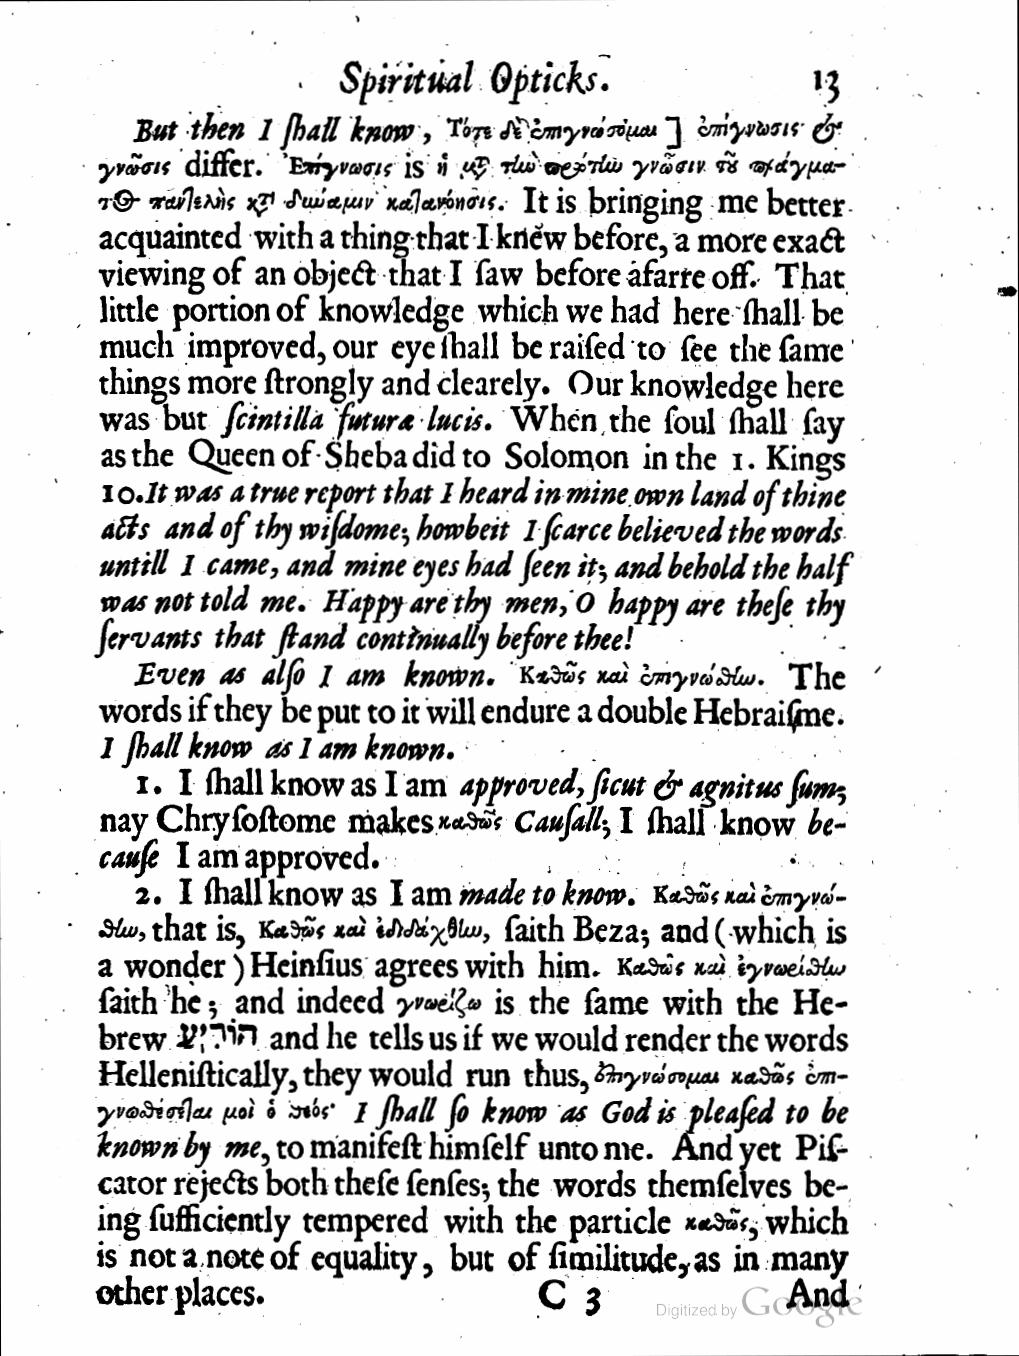catchword: (785, 1277, 852, 1312)
full_p: (91, 111, 856, 657), (94, 875, 853, 1319), (95, 658, 855, 768), (95, 767, 850, 878)
header: (335, 55, 614, 109)
page_num: (809, 65, 847, 106)
signature: (534, 1277, 603, 1319)
